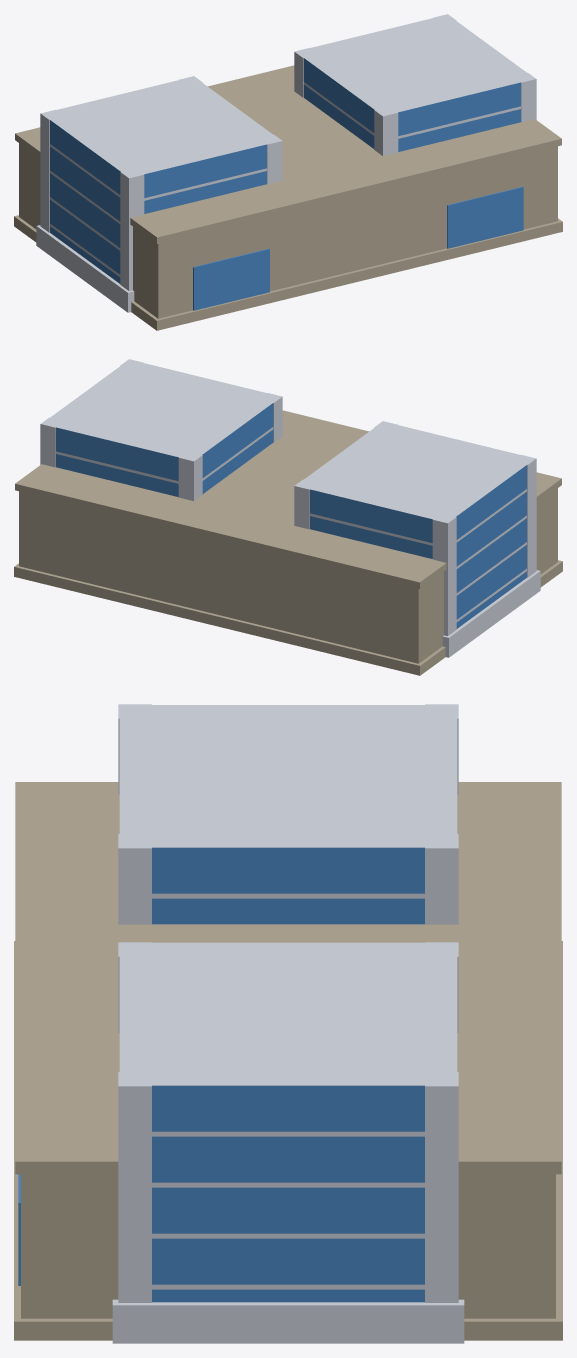
The model's file is Kit_TwinTowers.glb.
3 renders of one model, top to bottom at view 1: azimuth 30°, elevation 25°; view 2: azimuth 150°, elevation 25°; view 3: azimuth 270°, elevation 25°, orthographic. The views are drawn at different scales.
Visible parts, largest first — view 1: Kit_TwinTowers_Base, Kit_TwinTowers_Shaft, Kit_TwinTowers_CrownWest; view 2: Kit_TwinTowers_Base, Kit_TwinTowers_Shaft, Kit_TwinTowers_CrownWest; view 3: Kit_TwinTowers_Shaft, Kit_TwinTowers_Base, Kit_TwinTowers_CrownEast.
Part boxes in pixels (box(x1,y1,x2,y2)): Kit_TwinTowers_Base: box(14, 65, 562, 330); Kit_TwinTowers_Shaft: box(40, 14, 536, 291); Kit_TwinTowers_CrownWest: box(36, 225, 134, 312); Kit_TwinTowers_Base: box(14, 410, 562, 675); Kit_TwinTowers_Shaft: box(40, 359, 536, 636); Kit_TwinTowers_CrownWest: box(442, 570, 540, 657); Kit_TwinTowers_Shaft: box(118, 704, 458, 1302); Kit_TwinTowers_Base: box(14, 782, 562, 1340); Kit_TwinTowers_CrownEast: box(112, 1299, 464, 1343).
Bounding box in the file's own units: 65 × 20 × 39.
